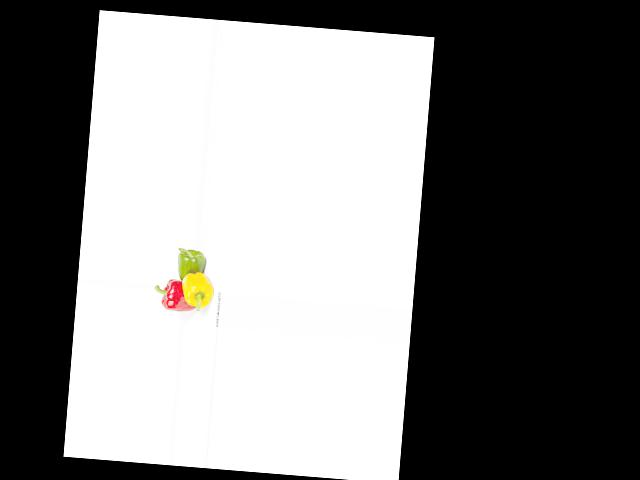bell_pepper: (153, 277, 195, 315)
